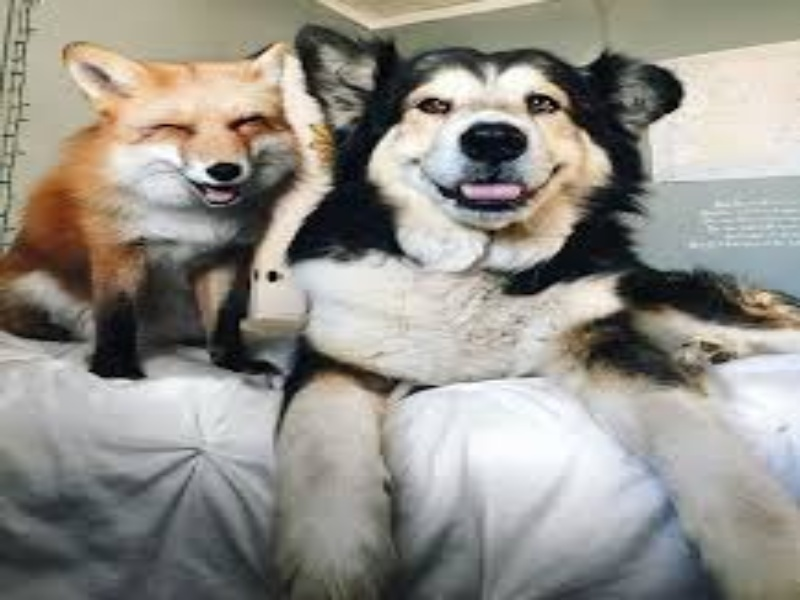dog: (292, 16, 750, 410), (4, 32, 293, 387)
